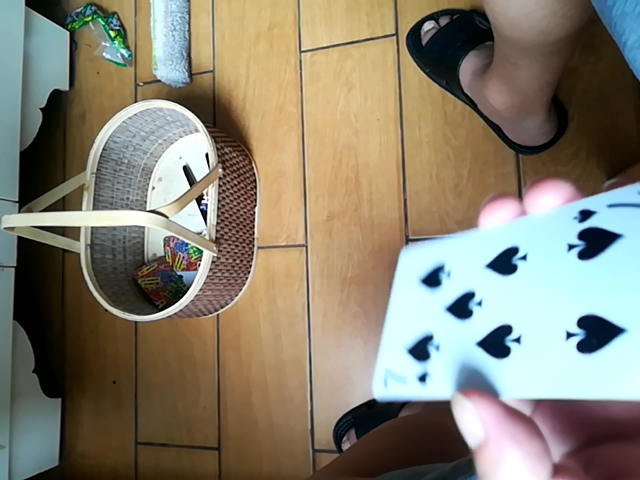ht 7: (367, 177, 639, 407)
